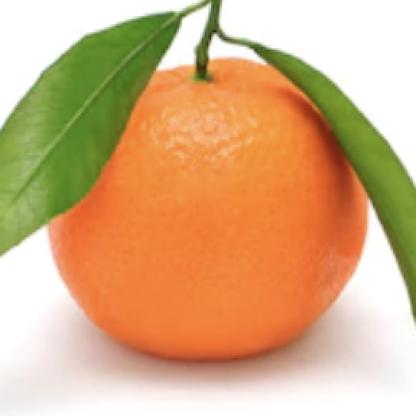fresh: (47, 55, 371, 358)
